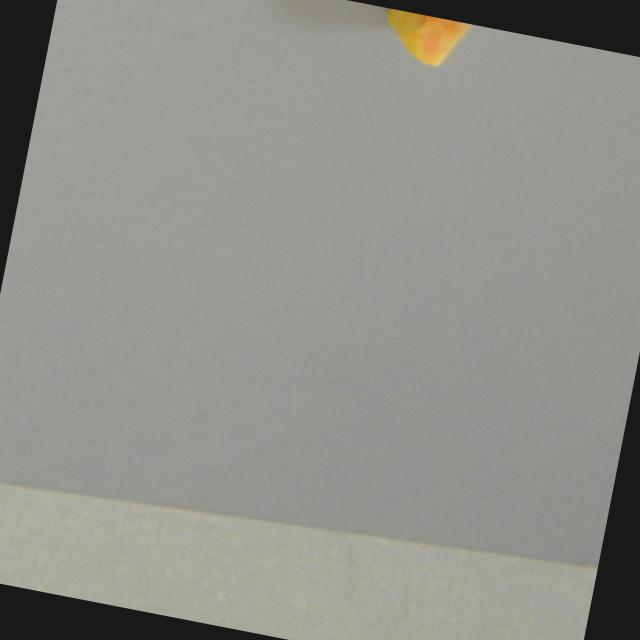dañado: (366, 5, 487, 78)
